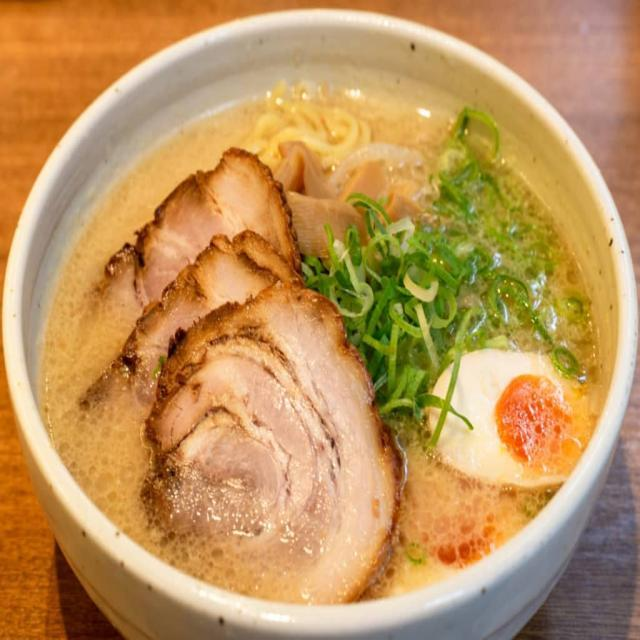cac loai rau cu: (318, 106, 598, 415)
mi misoramen: (64, 78, 607, 600)
soi mi miso: (220, 78, 450, 208)
thit heo: (146, 289, 410, 599), (75, 236, 349, 455), (102, 145, 310, 315)
trung: (424, 339, 605, 481)
